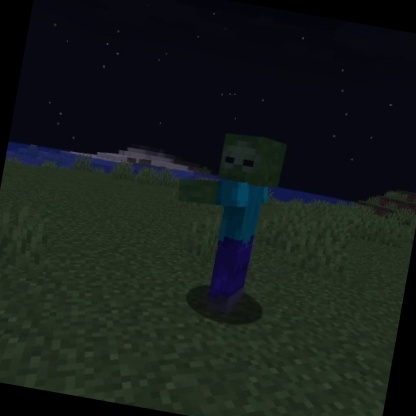zombie: (154, 121, 295, 323)
